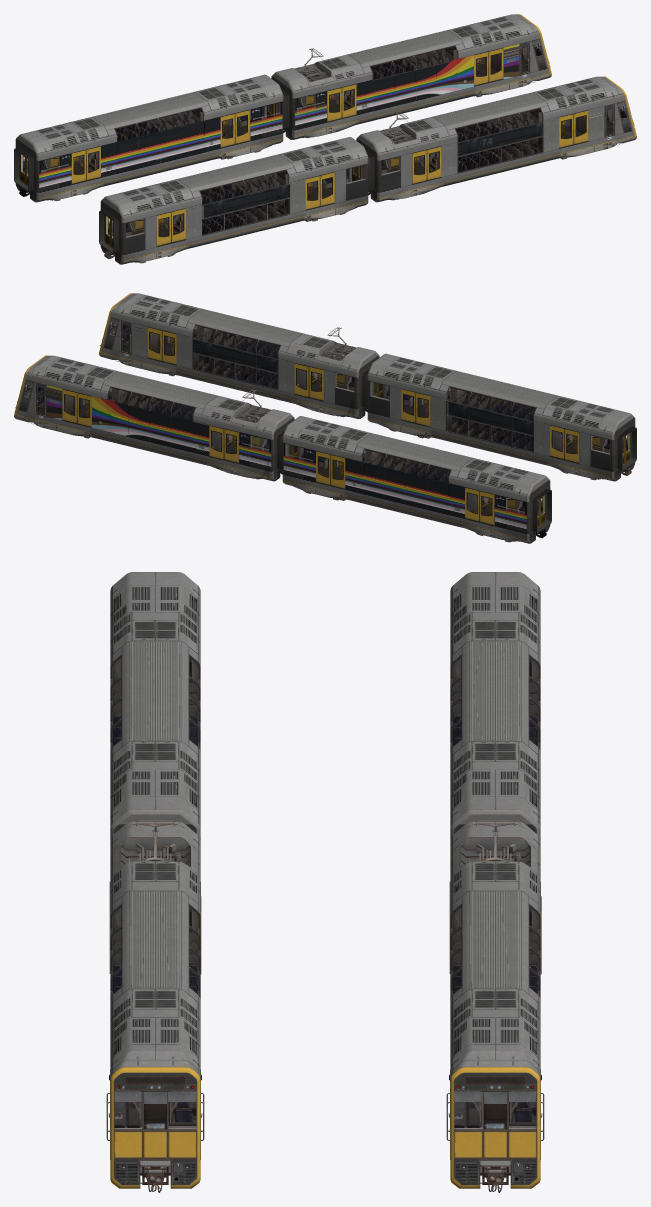
The model's file is tangara.glb.
3 renders of one model, top to bottom at view 1: azimuth 30°, elevation 25°; view 2: azimuth 150°, elevation 25°; view 3: azimuth 270°, elevation 25°, orthographic. The views are drawn at different scales.
Visible parts, largest first — view 1: exterior_middle_pride_81, exterior_middle_pride.001_109, exterior_22, exterior_pride_54, windows.001_80, windows_pride_52, windows_middle_108, windows_21, interior.003_107, interior_14, seats.003_106, seats_13 (+8 smaller); view 2: exterior_middle_pride.001_109, exterior_middle_pride_81, exterior_pride_54, exterior_22, windows.001_80, windows_pride_52, windows_middle_108, windows_21, interior.003_107, interior_14, seats.003_106, seats_13 (+9 smaller); view 3: exterior_22, exterior_pride_54, exterior_middle_pride_81, exterior_middle_pride.001_109, windows_21, windows_pride_52, interior.002_39, interior_14, windows.001_80, windows_middle_108, seats.003_106, seats.001_78 (+4 smaller).
Part boxes in pixels (box(x1,y1,x2,y2)): exterior_middle_pride_81: box(14, 74, 284, 202); exterior_middle_pride.001_109: box(99, 137, 369, 264); exterior_22: box(355, 76, 636, 202); exterior_pride_54: box(270, 14, 551, 139); windows.001_80: box(23, 103, 280, 175); windows_pride_52: box(296, 40, 541, 113); windows_middle_108: box(109, 165, 365, 237); windows_21: box(382, 102, 626, 174); interior.003_107: box(105, 165, 365, 248); interior_14: box(381, 102, 626, 175); seats.003_106: box(200, 171, 289, 234); seats_13: box(456, 109, 542, 171); exterior_middle_pride.001_109: box(366, 353, 636, 481); exterior_middle_pride_81: box(281, 416, 551, 543); exterior_pride_54: box(14, 355, 295, 481); exterior_22: box(99, 293, 380, 418); windows.001_80: box(285, 444, 542, 516); windows_pride_52: box(24, 381, 269, 454); windows_middle_108: box(370, 382, 626, 454); windows_21: box(109, 319, 353, 391); interior.003_107: box(370, 382, 630, 465); interior_14: box(100, 318, 375, 394); seats.003_106: box(446, 392, 535, 451); seats_13: box(193, 330, 279, 388); exterior_22: box(106, 821, 204, 1192); exterior_pride_54: box(446, 821, 544, 1192); exterior_middle_pride_81: box(450, 572, 540, 839); exterior_middle_pride.001_109: box(110, 572, 200, 839); windows_21: box(110, 905, 200, 1129); windows_pride_52: box(450, 905, 540, 1129); interior.002_39: box(449, 905, 541, 1161); interior_14: box(109, 905, 201, 1161); windows.001_80: box(450, 656, 540, 749); windows_middle_108: box(110, 656, 200, 749); seats.003_106: box(112, 661, 198, 745); seats.001_78: box(452, 661, 538, 745).
Bounding box in the file's own units: 39.47 × 5.61 × 14.16.
Materials: 11 (10 with a texture image).
